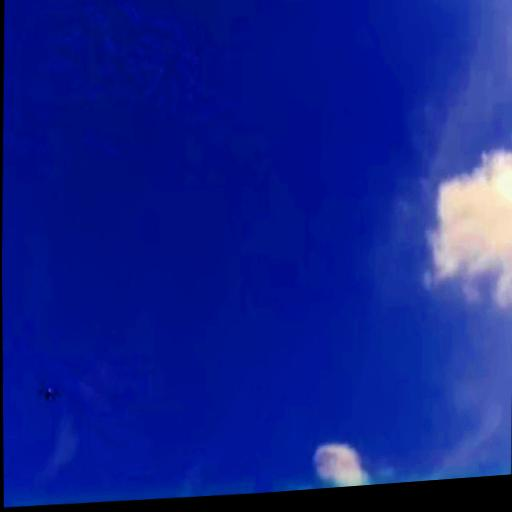drones: (34, 373, 66, 412)
